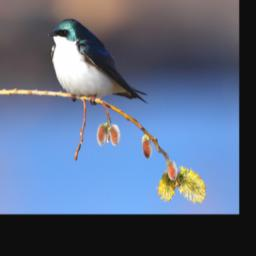Swallow: (46, 17, 149, 103)
